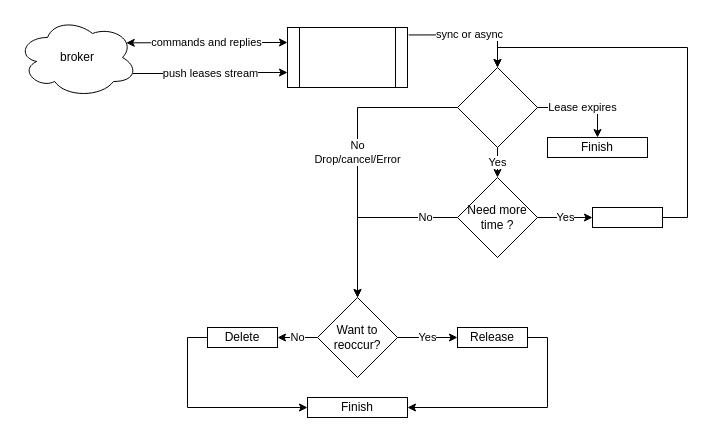
Some shapes in this 713 by 435 pixel diagram are drawn without their labels. Each missing label, with the centre of its shape:
consumer SDK: the point at 347,57
Extend: the point at 627,217
Message processed: the point at 497,107
